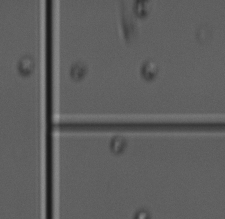Dead Cell: (140, 60, 160, 81), (109, 134, 129, 155), (71, 60, 88, 81), (133, 1, 153, 18), (19, 56, 33, 75)
